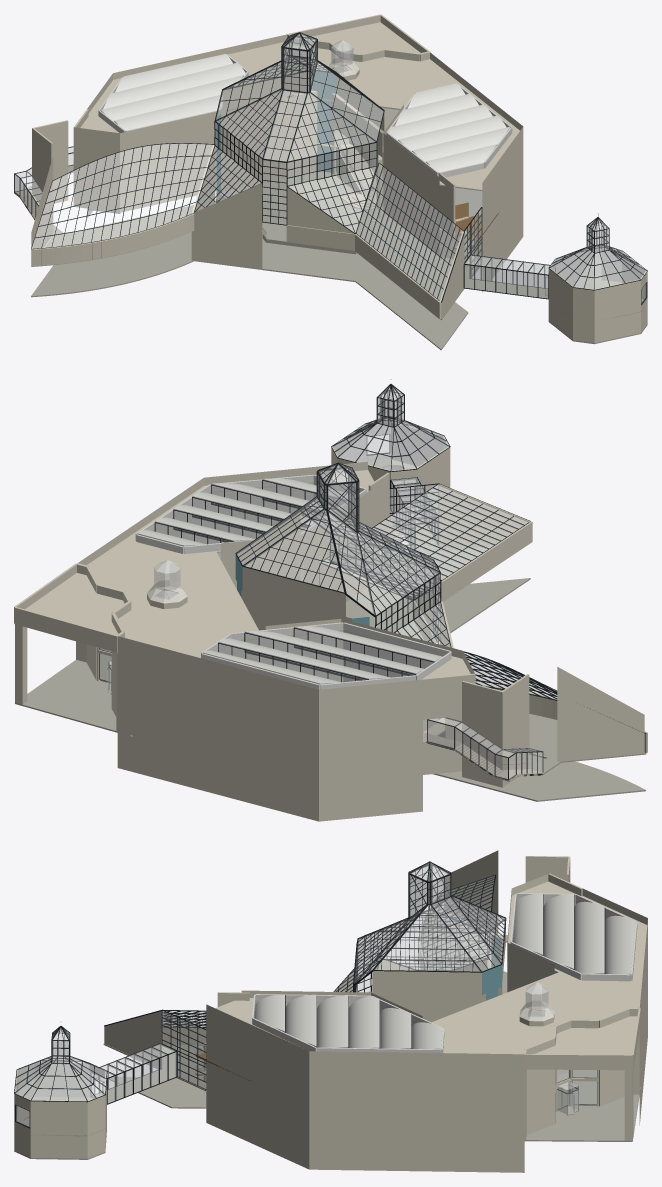
File: MUDAM_R24_GALERI_ISIKLIK_v001_preview.glb
The picture shows the model from 3 angles, top to bottom: view 1: azimuth 30°, elevation 25°; view 2: azimuth 150°, elevation 25°; view 3: azimuth 270°, elevation 25°; orthographic projection. The views are drawn at different scales.
Parts seen in each view (by area): view 1: P05_ZONE_LM1_GALLERIES_FOYER, P05_MAIN_ROOF_DECK, P05_GALLERY_HALL_WEST1, P05_MAIN_ATRIUM_BASE_3, R07_STAIRWELL_STONE_NORTH, P05_FRONT_0, P05_GALLERY_HALL_EAST1, P05_FLOOR_L00_GH, P05_GALLERY_HALL_WEST2, P05_FLOOR_L00_EAST_GARDEN, R17_WALL_0, P05_FLOOR_L00_WEST_CAFE (+35 smaller); view 2: P05_FRONT_9, P05_FRONT_10, P05_MAIN_ROOF_DECK, P05_ZONE_LM1_GALLERIES_FOYER, P05_WEST_END, P07_CANOPY_PAVING_DISPLAY, P05_GALLERY_HALL_EAST1, R14_INNER_WALL_B, R11_STONE_END, P07_CANOPY_SLAB_ENVELOPE, P05_FLOOR_L00_EAST_GARDEN, P06_HIGH_EAVE_UPSTAND_3 (+33 smaller); view 3: P05_FRONT_1, P05_FRONT_0, P05_MAIN_ROOF_DECK, R17_WALL_6, P07_CANOPY_PAVING_DISPLAY, P06_HIGH_EAVE_UPSTAND_5, P07_CANOPY_SLAB_ENVELOPE, P05_WEST_END, R24_SHELL_W_02, R11_STONE_END, R24_SHELL_W_01, P07_ENTRY_RETURN_1 (+30 smaller).
Boxes of the visible parts, x1,y1,x2,y2 form: P05_ZONE_LM1_GALLERIES_FOYER: [31, 232, 468, 350]; P05_MAIN_ROOF_DECK: [75, 42, 522, 190]; P05_GALLERY_HALL_WEST1: [120, 110, 224, 212]; P05_MAIN_ATRIUM_BASE_3: [221, 91, 317, 191]; R07_STAIRWELL_STONE_NORTH: [191, 183, 262, 269]; P05_FRONT_0: [482, 127, 523, 292]; P05_GALLERY_HALL_EAST1: [383, 133, 439, 256]; P05_FLOOR_L00_GH: [216, 172, 383, 251]; P05_GALLERY_HALL_WEST2: [73, 127, 119, 212]; P05_FLOOR_L00_EAST_GARDEN: [357, 213, 482, 319]; R17_WALL_0: [594, 279, 640, 342]; P05_FLOOR_L00_WEST_CAFE: [31, 200, 215, 266]; P05_FRONT_9: [117, 636, 318, 821]; P05_FRONT_10: [319, 679, 422, 821]; P05_MAIN_ROOF_DECK: [87, 470, 475, 699]; P05_ZONE_LM1_GALLERIES_FOYER: [433, 578, 645, 801]; P05_WEST_END: [557, 667, 644, 761]; P07_CANOPY_PAVING_DISPLAY: [15, 660, 117, 732]; P05_GALLERY_HALL_EAST1: [303, 484, 379, 601]; R14_INNER_WALL_B: [462, 681, 503, 787]; R11_STONE_END: [439, 484, 530, 550]; P07_CANOPY_SLAB_ENVELOPE: [25, 573, 124, 635]; P05_FLOOR_L00_EAST_GARDEN: [346, 546, 492, 623]; P06_HIGH_EAVE_UPSTAND_3: [242, 567, 345, 618]; P05_FRONT_1: [309, 1051, 524, 1172]; P05_FRONT_0: [206, 1004, 309, 1169]; P05_MAIN_ROOF_DECK: [207, 881, 647, 1062]; R17_WALL_6: [30, 1100, 87, 1158]; P07_CANOPY_PAVING_DISPLAY: [524, 1094, 639, 1141]; P06_HIGH_EAVE_UPSTAND_5: [372, 971, 481, 994]; P07_CANOPY_SLAB_ENVELOPE: [535, 1016, 637, 1054]; P05_WEST_END: [444, 850, 498, 935]; R24_SHELL_W_02: [574, 901, 604, 973]; R11_STONE_END: [104, 1011, 163, 1069]; R24_SHELL_W_01: [543, 893, 573, 969]; P07_ENTRY_RETURN_1: [524, 1037, 554, 1134].
Bounding box in the file's own units: 80.45 × 35.94 × 93.32.
